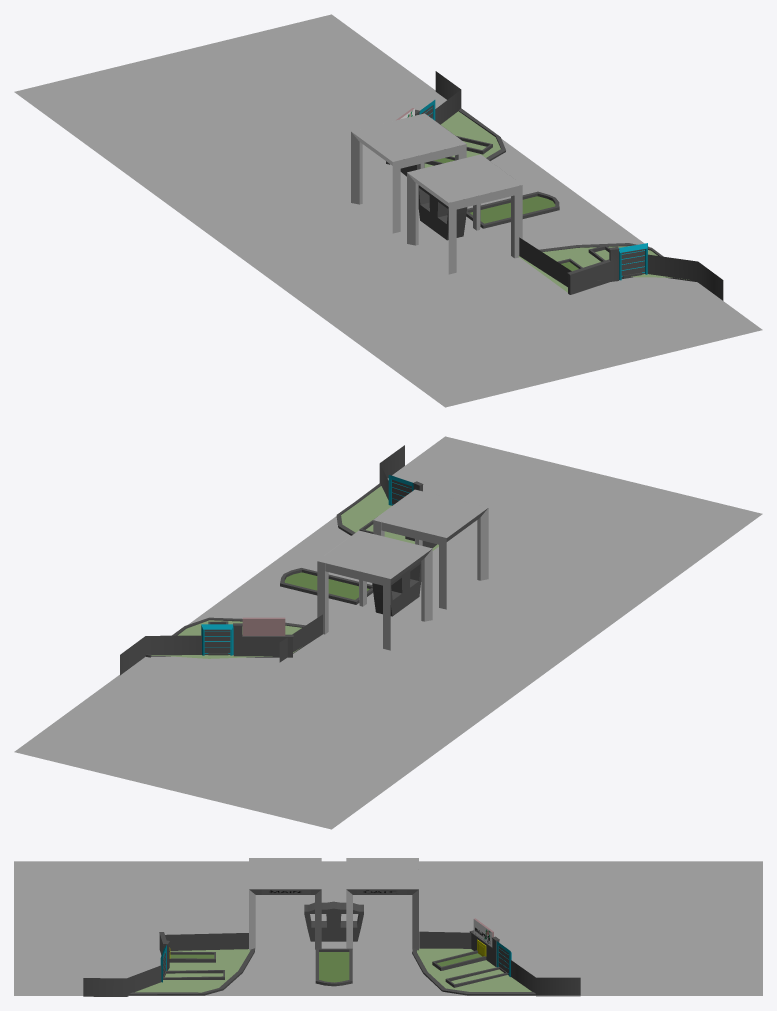
Rendered from MAIN GATE FBX.fbx.
3 renders of one model, top to bottom at view 1: azimuth 30°, elevation 25°; view 2: azimuth 150°, elevation 25°; view 3: azimuth 270°, elevation 25°, orthographic. The views are drawn at different scales.
Visible parts, largest first — view 1: pPlane12, polySurface78, polySurface65, polySurface70, pCube23, polySurface74, polySurface56; view 2: pPlane12, polySurface78, polySurface65, polySurface70, pCube23, polySurface56, polySurface74, pCube22; view 3: pPlane12, polySurface65, polySurface78, polySurface70, pCube23, polySurface74, polySurface72, pCube22, pPlane14, polySurface56, pPlane13, polySurface67.
Boxes of the visible parts, x1=… form: pPlane12: x1=14, y1=14, x2=762, y2=407; polySurface78: x1=351, y1=113, x2=522, y2=274; polySurface65: x1=386, y1=71, x2=723, y2=300; polySurface70: x1=424, y1=111, x2=688, y2=292; pCube23: x1=418, y1=185, x2=467, y2=240; polySurface74: x1=469, y1=196, x2=555, y2=223; polySurface56: x1=421, y1=105, x2=644, y2=278; pPlane12: x1=14, y1=436, x2=762, y2=829; polySurface78: x1=317, y1=489, x2=488, y2=650; polySurface65: x1=120, y1=445, x2=436, y2=675; polySurface70: x1=151, y1=486, x2=438, y2=658; pCube23: x1=372, y1=561, x2=421, y2=616; polySurface56: x1=204, y1=479, x2=411, y2=654; polySurface74: x1=284, y1=572, x2=369, y2=599; pCube22: x1=242, y1=617, x2=285, y2=635; pPlane12: x1=14, y1=861, x2=762, y2=995; polySurface65: x1=83, y1=930, x2=580, y2=996; polySurface78: x1=249, y1=858, x2=418, y2=950; polySurface70: x1=135, y1=948, x2=531, y2=992; pCube23: x1=304, y1=901, x2=363, y2=941; polySurface74: x1=319, y1=952, x2=349, y2=982; polySurface72: x1=170, y1=953, x2=481, y2=966; pCube22: x1=473, y1=918, x2=493, y2=946; pPlane14: x1=357, y1=889, x2=406, y2=894; polySurface56: x1=163, y1=946, x2=508, y2=977; pPlane13: x1=261, y1=889, x2=310, y2=894; polySurface67: x1=160, y1=941, x2=511, y2=982.
Size of the model in its own units: 37.5 by 8.73 by 88.08.
